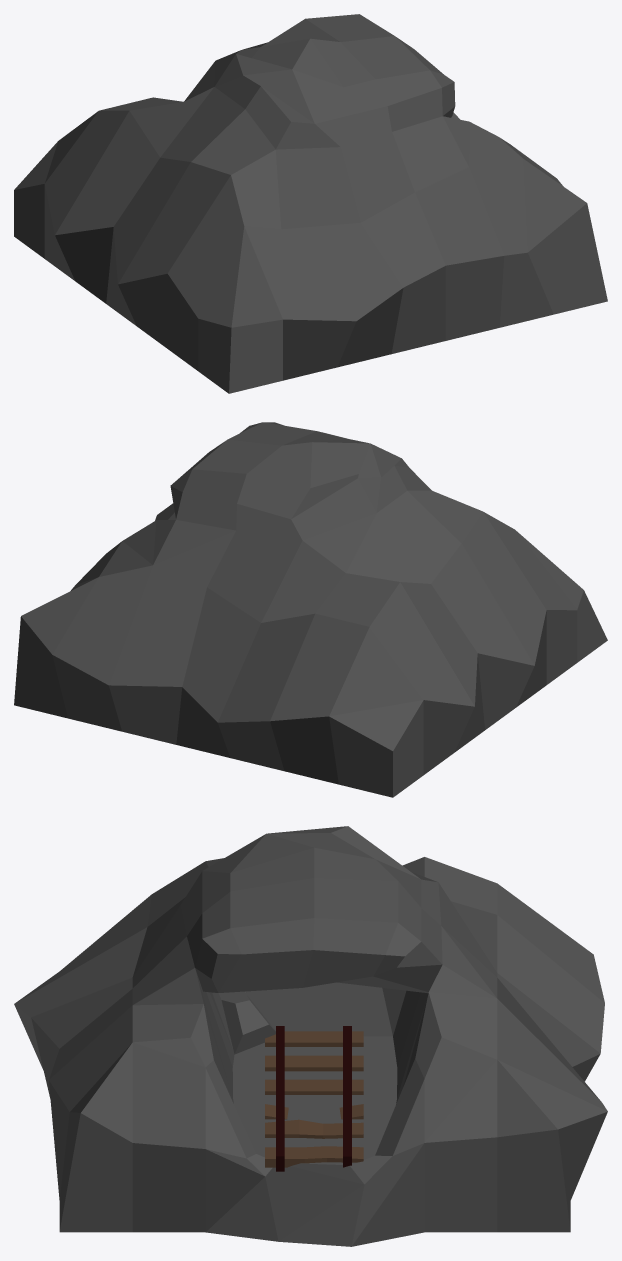
The model's file is Cave.glb.
3 renders of one model, top to bottom at view 1: azimuth 30°, elevation 25°; view 2: azimuth 150°, elevation 25°; view 3: azimuth 270°, elevation 25°, orthographic. The views are drawn at different scales.
Visible parts, largest first — view 1: Cube_0; view 2: Cube_0; view 3: Cube_0, Cube.003_0.
Boxes of the visible parts, bbox=[...] form: Cube_0: bbox=[14, 14, 607, 393]; Cube_0: bbox=[14, 422, 607, 797]; Cube_0: bbox=[14, 826, 607, 1246]; Cube.003_0: bbox=[265, 1026, 363, 1171].
Size of the model in its own units: 11.79 by 6.13 by 12.03.
Materials: 1 (1 with a texture image).
